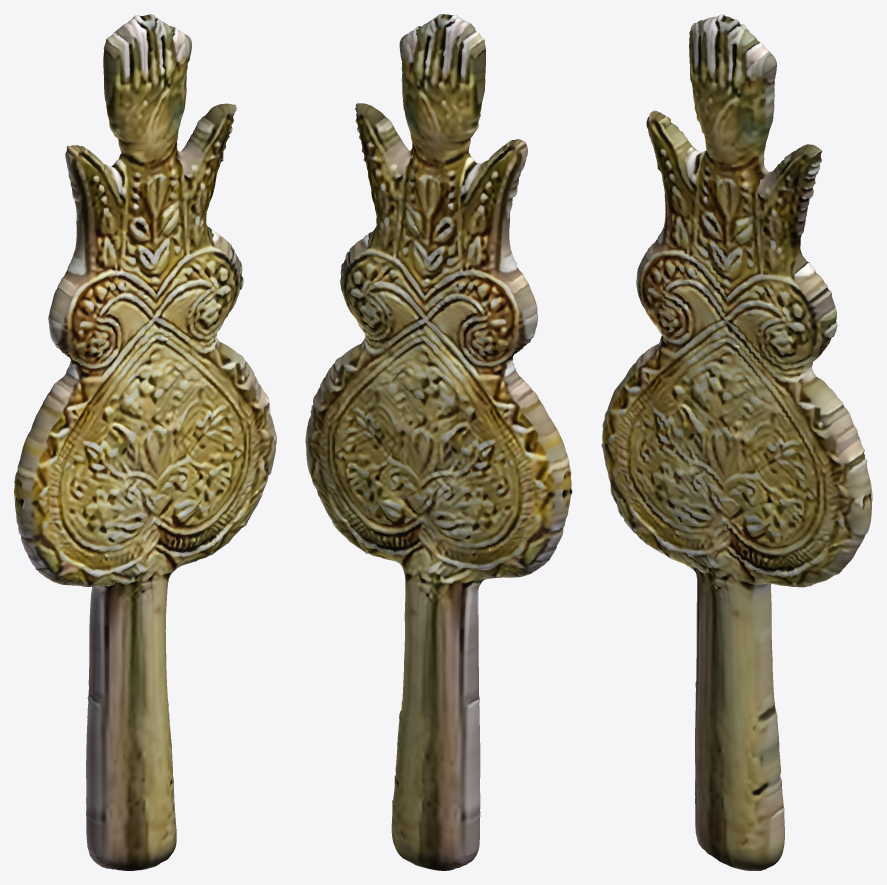
Rendered from kfl-2299.glb.
3 views of the same model, side by side, from view 1: azimuth 30°, elevation 25°; view 2: azimuth 150°, elevation 25°; view 3: azimuth 330°, elevation 25° (orthographic). The views are drawn at different scales.
Visible parts, largest first — view 1: kfl-2299; view 2: kfl-2299; view 3: kfl-2299.
Part boxes in pixels (box(x1,y1,x2,y2)): kfl-2299: box(14, 14, 276, 870); kfl-2299: box(305, 14, 572, 870); kfl-2299: box(601, 14, 872, 870).
Bounding box in the file's own units: 0.315 × 0.9909 × 0.0807.
1 material, 1 textured.
